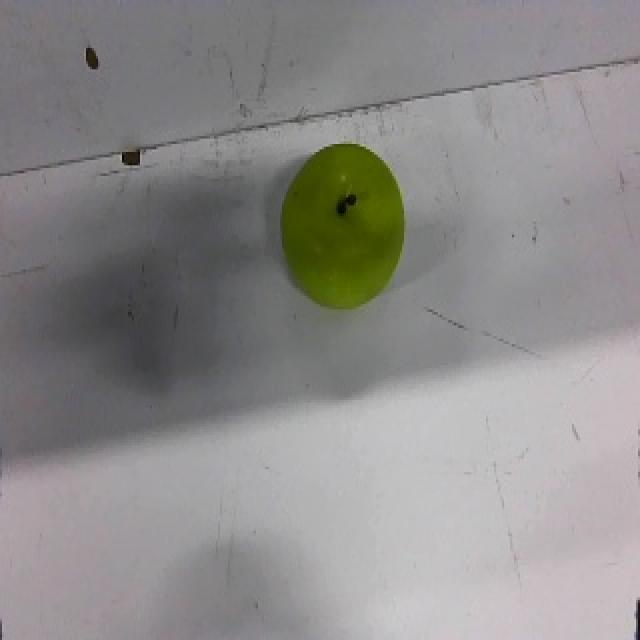apple: (279, 141, 406, 311)
